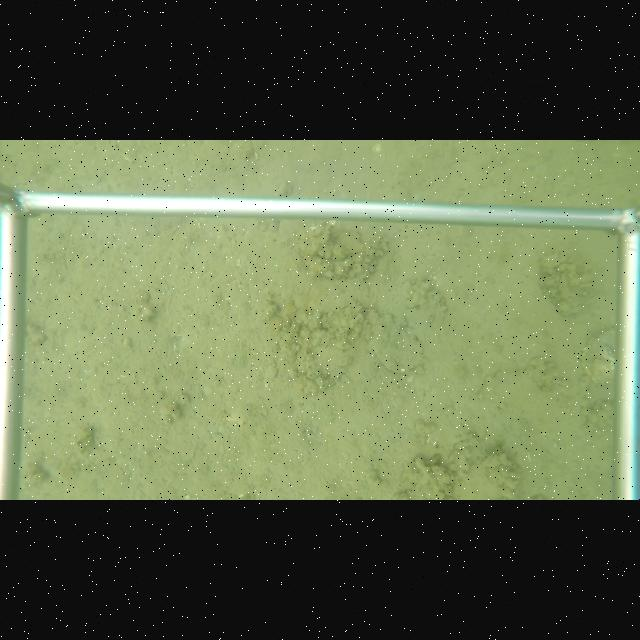Oyster-Closed: (363, 305, 428, 378), (573, 324, 616, 391)
